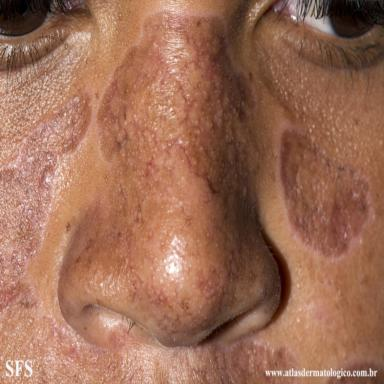Lupus-Erythematosus-Chronicus-Discoides: (99, 12, 247, 190), (0, 94, 91, 330), (281, 130, 369, 256)
